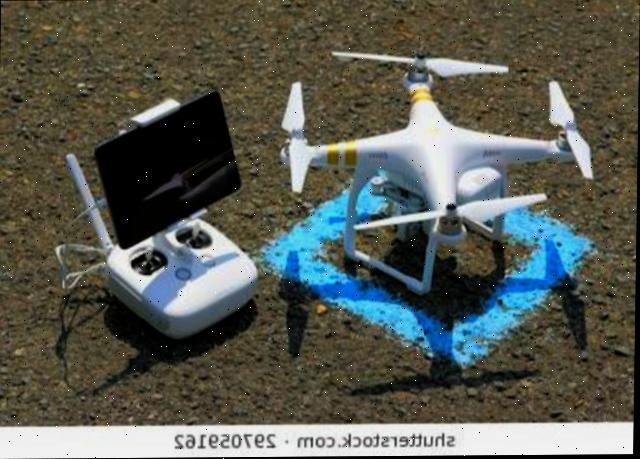drone: (266, 42, 604, 297)
